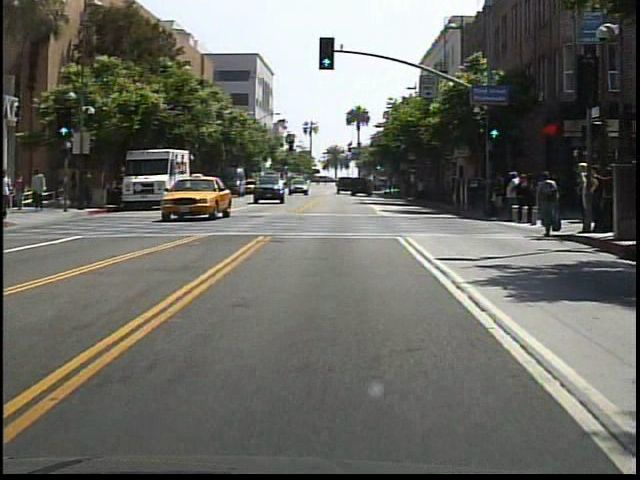person: (532, 168, 561, 237), (503, 166, 521, 226), (31, 165, 52, 214), (4, 168, 20, 219), (15, 171, 31, 213), (83, 168, 99, 209), (70, 169, 82, 206)
